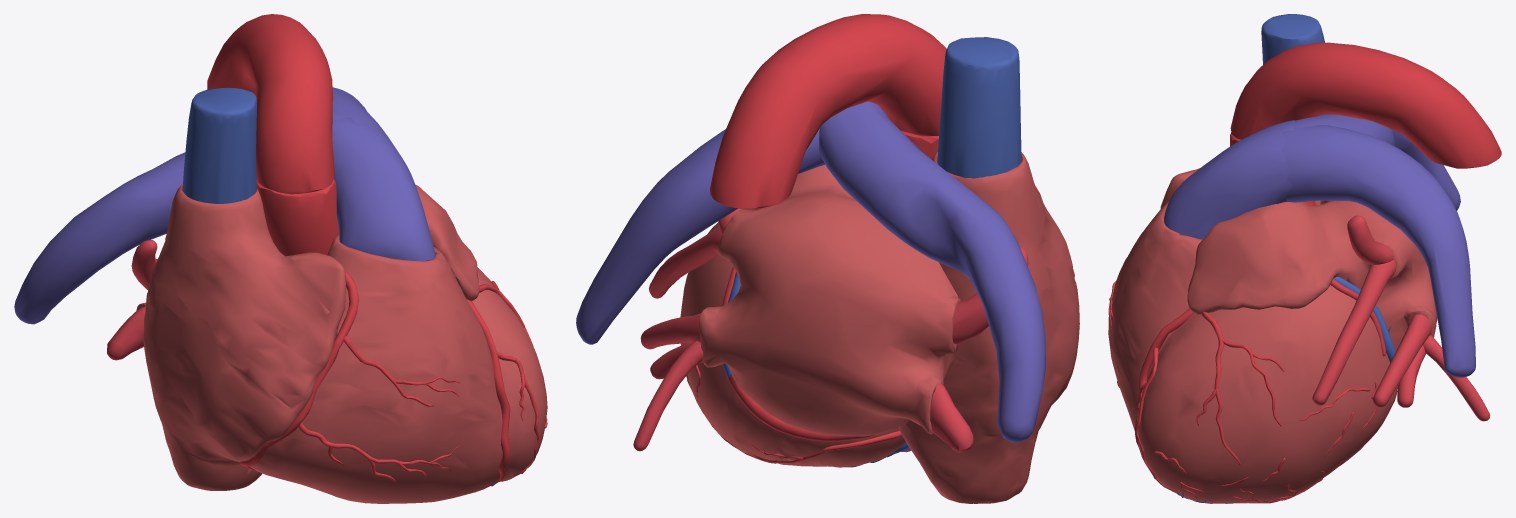
Rendered from heart.glb.
3 views of the same model, side by side, from view 1: azimuth 30°, elevation 25°; view 2: azimuth 150°, elevation 25°; view 3: azimuth 270°, elevation 25° (orthographic). The views are drawn at different scales.
Visible parts, largest first — view 1: стенки желудочков, стенка правого предсердия, дуга аорты, правая лёгочная артерия, лёгочный ствол, верхняя полая вена, восходящая аорта, стенка левого предсердия, правая коронарная артерия (ПКА), передняя межжелудочковая ветвь ЛКА, правая нижняя лёгочная вена, левая лёгочная артерия (+2 smaller); view 2: стенка левого предсердия, правая лёгочная артерия, дуга аорты, стенка правого предсердия, левая лёгочная артерия, верхняя полая вена, стенки желудочков, левая нижняя лёгочная вена (×3), левая верхняя лёгочная вена, правая нижняя лёгочная вена, правая верхняя лёгочная вена, венечный синус; view 3: стенки желудочков, стенка левого предсердия, дуга аорты, левая лёгочная артерия, лёгочный ствол, левая верхняя лёгочная вена (×2), левая нижняя лёгочная вена (×3), правая лёгочная артерия, верхняя полая вена, диагональная ветвь передней межжелудочковой ветви (×3), передняя межжелудочковая ветвь ЛКА, большая вена сердца (+1 smaller).
Boxes of the visible parts, bbox=[...] form: стенки желудочков: bbox=[246, 235, 547, 503]; стенка правого предсердия: bbox=[143, 183, 346, 490]; дуга аорты: bbox=[207, 14, 334, 194]; правая лёгочная артерия: bbox=[14, 110, 345, 324]; лёгочный ствол: bbox=[332, 117, 435, 261]; верхняя полая вена: bbox=[182, 87, 256, 203]; восходящая аорта: bbox=[256, 179, 339, 256]; стенка левого предсердия: bbox=[136, 185, 479, 310]; правая коронарная артерия (ПКА): bbox=[239, 271, 358, 471]; передняя межжелудочковая ветвь ЛКА: bbox=[466, 299, 510, 481]; правая нижняя лёгочная вена: bbox=[107, 307, 145, 360]; левая лёгочная артерия: bbox=[332, 87, 384, 131]; стенка левого предсердия: bbox=[699, 165, 960, 436]; правая лёгочная артерия: bbox=[819, 101, 1045, 442]; дуга аорты: bbox=[710, 14, 946, 209]; стенка правого предсердия: bbox=[898, 151, 1079, 503]; левая лёгочная артерия: bbox=[576, 128, 824, 344]; верхняя полая вена: bbox=[937, 37, 1021, 178]; стенки желудочков: bbox=[680, 222, 905, 467]; левая нижняя лёгочная вена (×3): bbox=[633, 313, 717, 451]; левая верхняя лёгочная вена: bbox=[649, 228, 722, 298]; правая нижняя лёгочная вена: bbox=[930, 383, 973, 452]; правая верхняя лёгочная вена: bbox=[952, 246, 1028, 344]; венечный синус: bbox=[727, 376, 876, 441]; стенки желудочков: bbox=[1108, 202, 1397, 503]; стенка левого предсердия: bbox=[1187, 200, 1437, 350]; дуга аорты: bbox=[1230, 42, 1501, 168]; левая лёгочная артерия: bbox=[1281, 125, 1475, 377]; лёгочный ствол: bbox=[1164, 120, 1294, 239]; левая верхняя лёгочная вена (×2): bbox=[1312, 215, 1396, 405]; левая нижняя лёгочная вена (×3): bbox=[1373, 306, 1490, 421]; правая лёгочная артерия: bbox=[1294, 114, 1460, 210]; верхняя полая вена: bbox=[1261, 14, 1324, 114]; диагональная ветвь передней межжелудочковой ветви (×3): bbox=[1134, 311, 1281, 479]; передняя межжелудочковая ветвь ЛКА: bbox=[1135, 308, 1194, 446]; большая вена сердца: bbox=[1333, 276, 1395, 362].
Size of the model in its own units: 0.1408 by 0.1429 by 0.1267.
